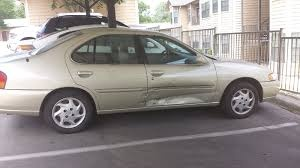Dent: (136, 83, 213, 109)
